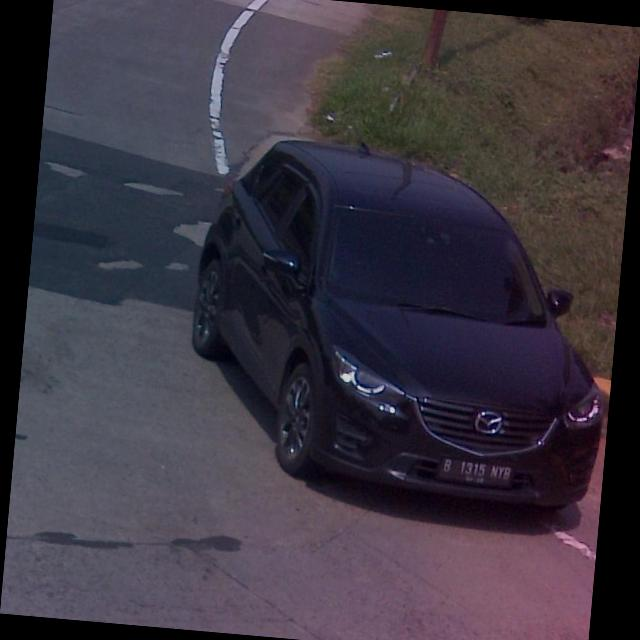plate: (434, 448, 523, 492)
